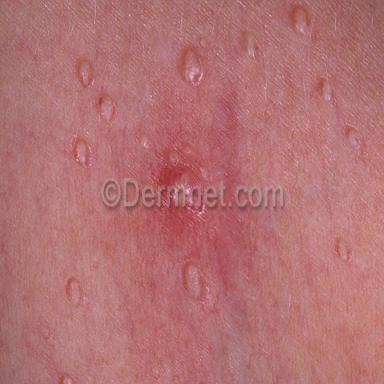Molluscum-Contagiosum: (184, 262, 204, 301), (183, 48, 203, 87), (98, 94, 115, 124), (77, 58, 93, 89), (293, 6, 309, 34), (76, 140, 91, 168), (69, 278, 81, 307), (320, 79, 334, 102), (338, 238, 350, 261), (245, 33, 256, 58), (348, 128, 358, 146)
